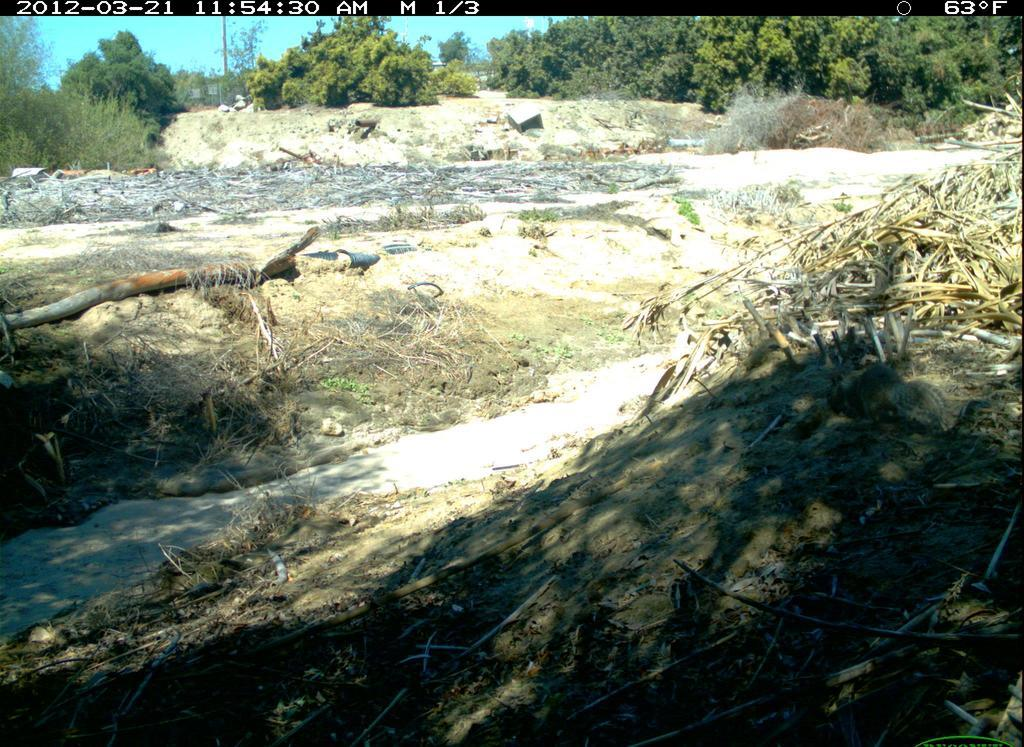squirrel: (822, 355, 959, 447)
